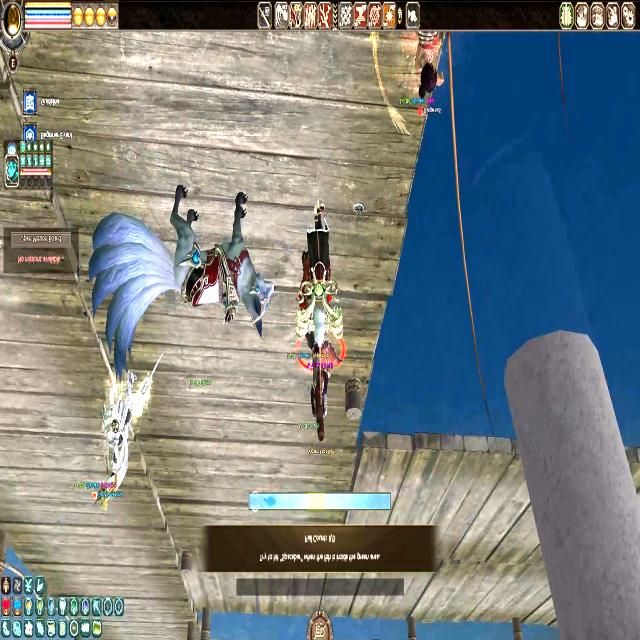fishes: (264, 495, 278, 509)
